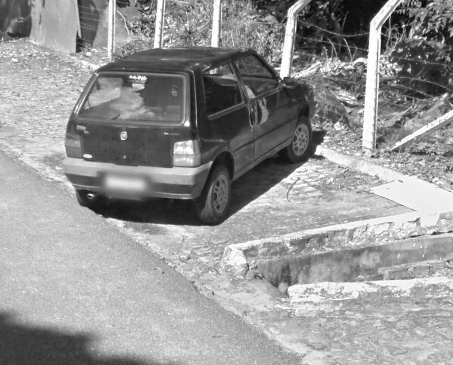car: (62, 38, 321, 228)
